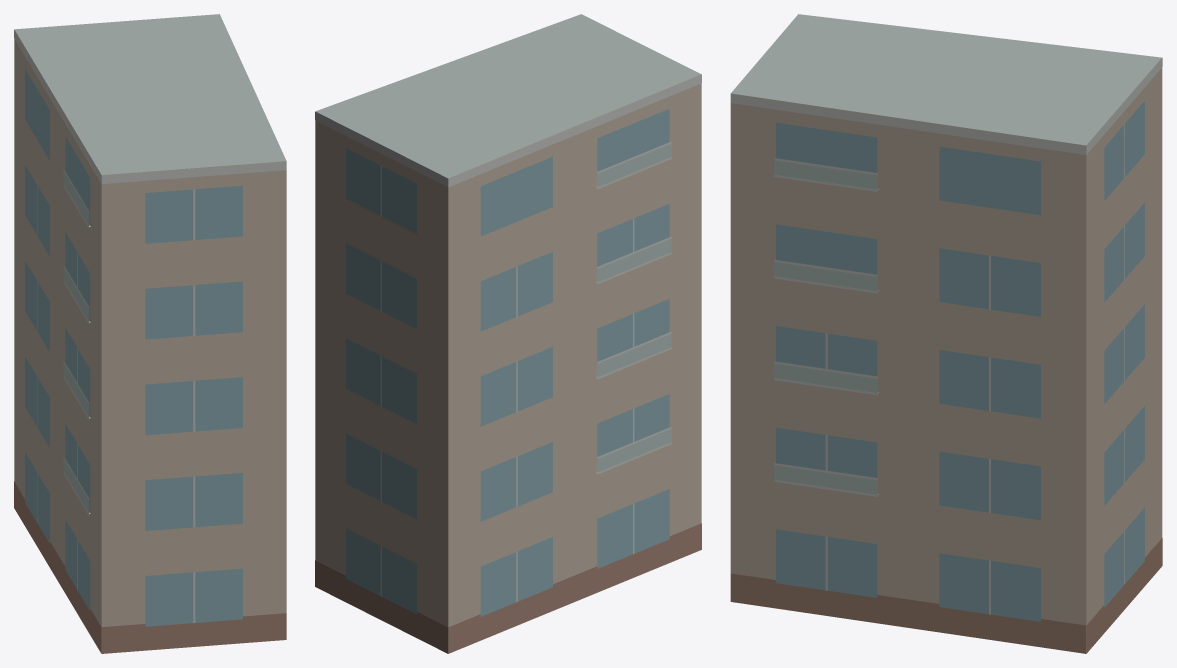
The model's file is survey-upis-32458169.glb.
The picture shows the model from 3 angles, left to right: view 1: azimuth 30°, elevation 25°; view 2: azimuth 150°, elevation 25°; view 3: azimuth 270°, elevation 25°; orthographic projection. The views are drawn at different scales.
Parts seen in each view (by area): view 1: survey-upis-32458169.tmp; view 2: survey-upis-32458169.tmp; view 3: survey-upis-32458169.tmp.
Part boxes in pixels (bbox=[...]): survey-upis-32458169.tmp: bbox=[14, 14, 286, 653]; survey-upis-32458169.tmp: bbox=[315, 14, 701, 653]; survey-upis-32458169.tmp: bbox=[730, 14, 1162, 653].
Bounding box in the file's own units: 7.22 × 13 × 10.02.
